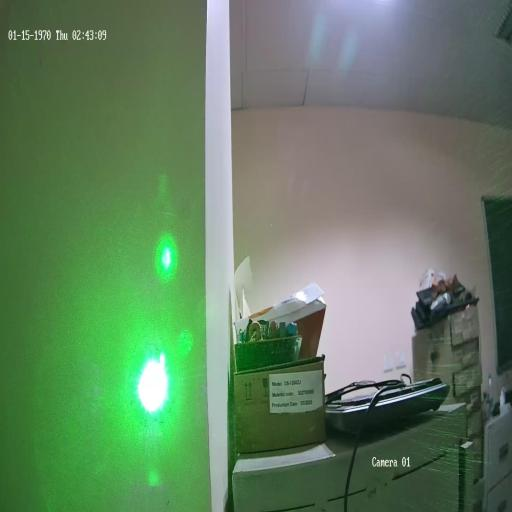laser: (130, 338, 179, 422)
